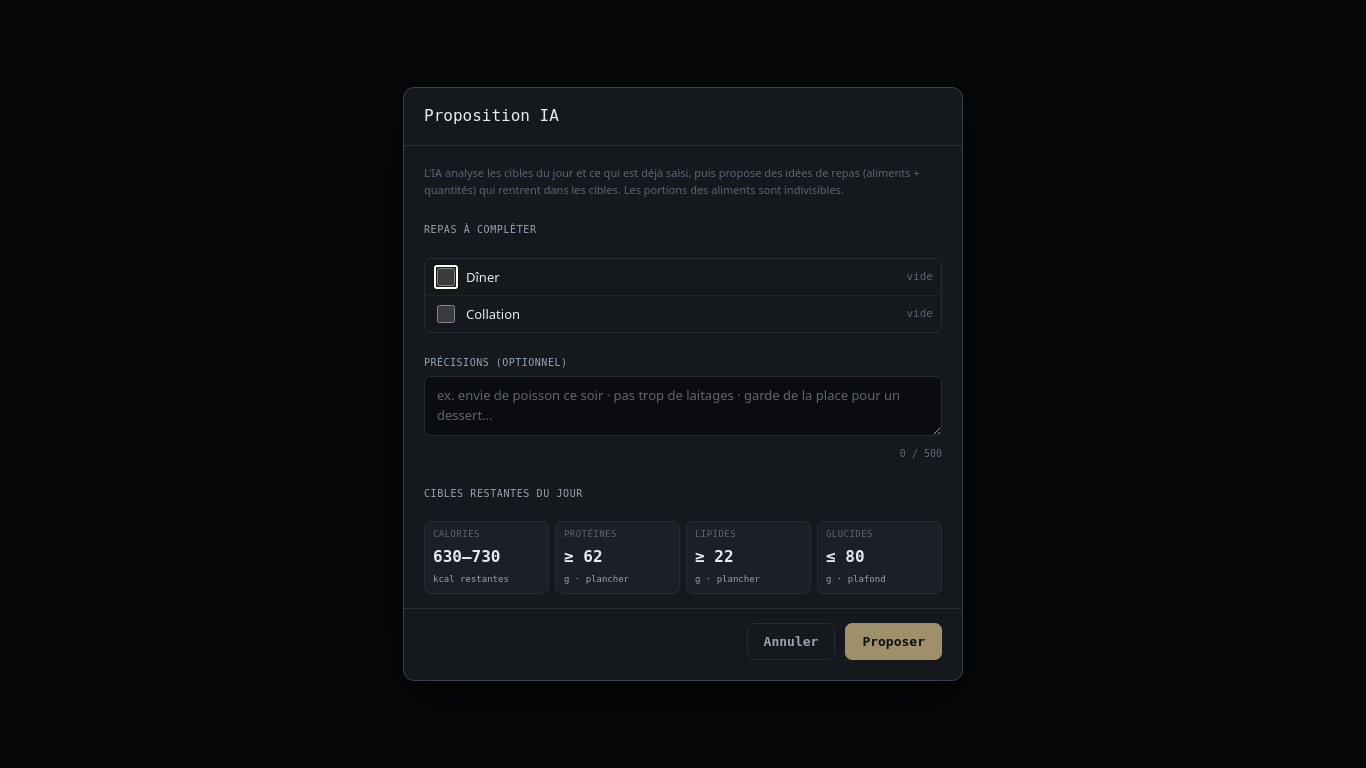
AiProposalsDialog — request popup (S9 / B-123) › keeps "Proposer" disabled until at least one meal is selected
The width and height of the screenshot is (1366, 768).
Check: the button "Proposer" is disabled, box [845,623,942,660]
Click the checkbox labelled "Dîner vide": (446, 277) [437,268,455,286]
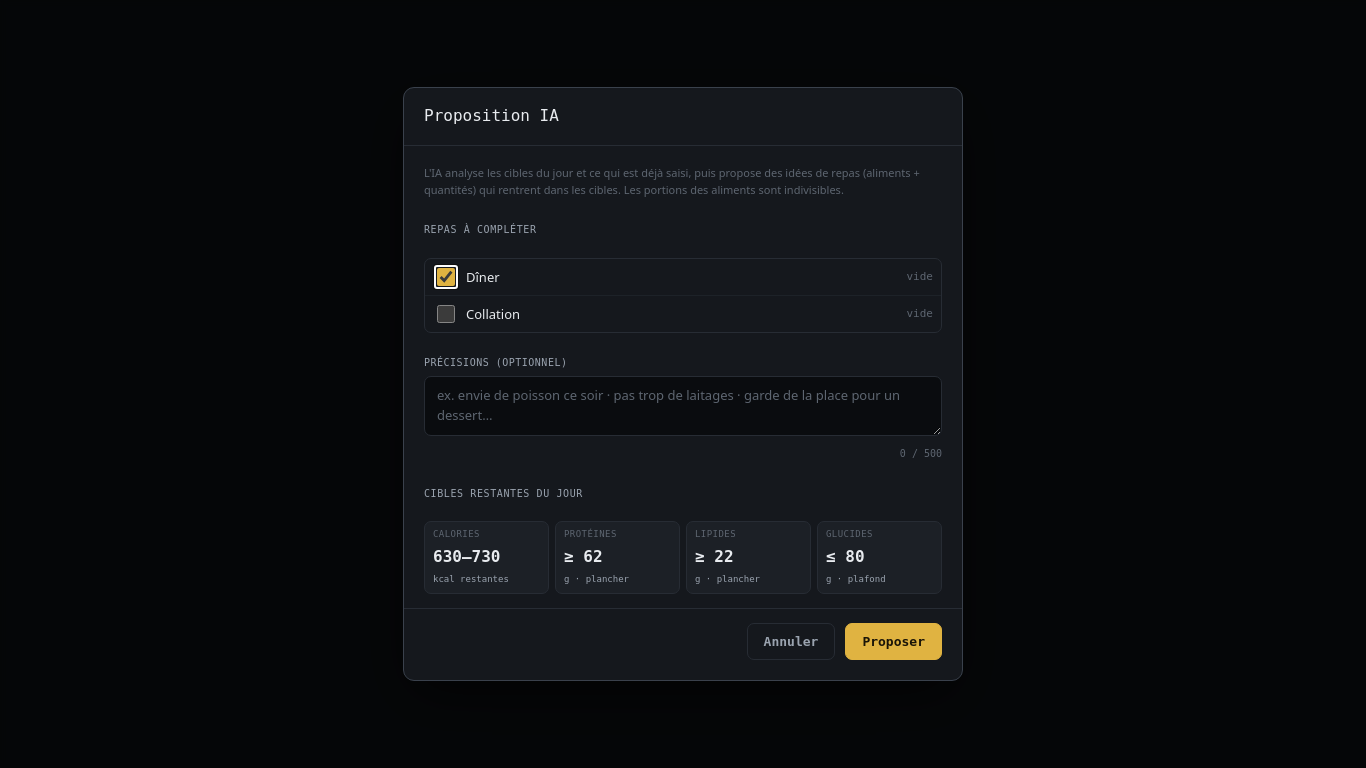
Check: the button "Proposer" is enabled, box [845,623,942,660]
